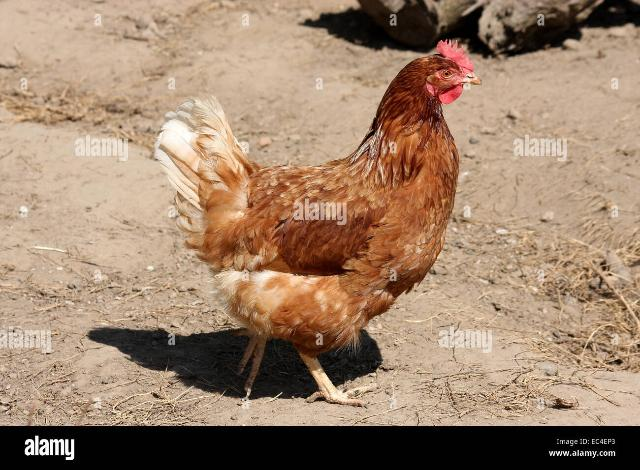Chicken: (152, 40, 483, 407)
